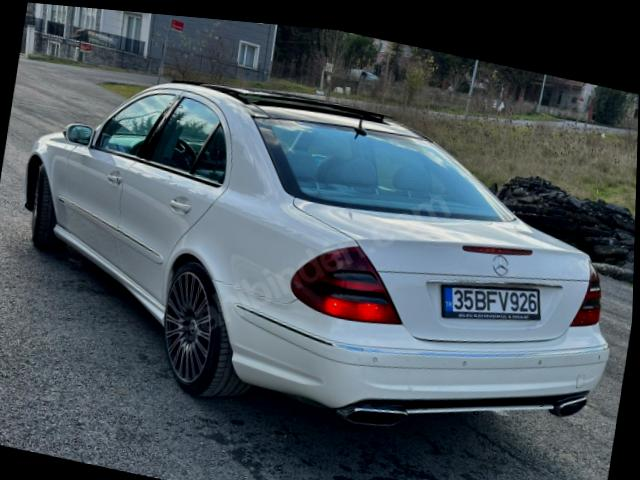plaka: (441, 286, 540, 321)
